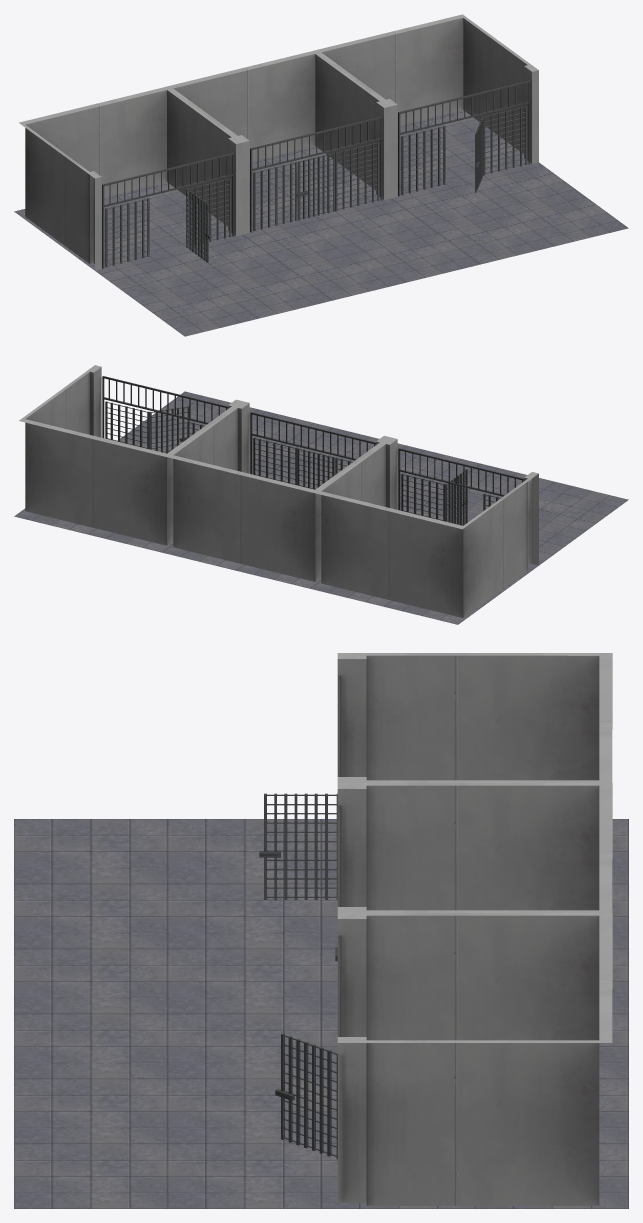
File: BLOCK1.obj
3 views of the same model, one above another, from view 1: azimuth 30°, elevation 25°; view 2: azimuth 150°, elevation 25°; view 3: azimuth 270°, elevation 25° (orthographic). The views are drawn at different scales.
Parts seen in each view (by area): view 1: Cube.058_Cube.061, Cube.056_Cube.059, Cube.203_Cube.211, Plane.007_Plane.008, Plane.008_Plane.010, Plane.012_Plane.013, Plane.011_Plane.012, Plane.010_Plane.011, Plane.009, Cube.011_Cube.013, Cube.059_Cube.062, Cube.057_Cube.063; view 2: Cube.058_Cube.061, Cube.056_Cube.059, Cube.203_Cube.211, Plane.012_Plane.013, Plane.007_Plane.008, Plane.008_Plane.010, Plane.011_Plane.012, Plane.010_Plane.011, Plane.009, Cube.059_Cube.062, Cube.057_Cube.063, Cube.011_Cube.013; view 3: Cube.056_Cube.059, Plane.007_Plane.008, Plane.012_Plane.013, Plane.008_Plane.010, Cube.058_Cube.061, Cube.203_Cube.211, Plane.010_Plane.011, Plane.009, Cube.057_Cube.063, Cube.059_Cube.062, Plane.011_Plane.012.
Boxes of the visible parts, bbox=[...] form: Cube.058_Cube.061: bbox=[19, 86, 242, 270]; Cube.056_Cube.059: bbox=[315, 14, 538, 198]; Cube.203_Cube.211: bbox=[167, 50, 390, 234]; Plane.007_Plane.008: bbox=[248, 202, 480, 300]; Plane.008_Plane.010: bbox=[396, 166, 628, 264]; Plane.012_Plane.013: bbox=[100, 238, 332, 336]; Plane.011_Plane.012: bbox=[14, 182, 246, 273]; Plane.010_Plane.011: bbox=[391, 110, 543, 201]; Plane.009: bbox=[243, 146, 394, 237]; Cube.011_Cube.013: bbox=[296, 152, 335, 220]; Cube.059_Cube.062: bbox=[186, 189, 211, 262]; Cube.057_Cube.063: bbox=[475, 116, 483, 192]; Cube.058_Cube.061: bbox=[315, 437, 538, 617]; Cube.056_Cube.059: bbox=[19, 365, 242, 545]; Cube.203_Cube.211: bbox=[167, 401, 390, 581]; Plane.012_Plane.013: bbox=[416, 463, 628, 562]; Plane.007_Plane.008: bbox=[268, 427, 480, 512]; Plane.008_Plane.010: bbox=[120, 391, 332, 476]; Plane.011_Plane.012: bbox=[310, 561, 542, 624]; Plane.010_Plane.011: bbox=[14, 508, 173, 552]; Plane.009: bbox=[162, 545, 321, 588]; Cube.059_Cube.062: bbox=[445, 469, 467, 525]; Cube.057_Cube.063: bbox=[149, 406, 190, 453]; Cube.011_Cube.013: bbox=[297, 448, 334, 489]; Cube.056_Cube.059: bbox=[337, 913, 612, 1205]; Plane.007_Plane.008: bbox=[14, 949, 321, 1078]; Plane.012_Plane.013: bbox=[14, 819, 321, 948]; Plane.008_Plane.010: bbox=[14, 1079, 321, 1208]; Cube.058_Cube.061: bbox=[337, 653, 612, 782]; Cube.203_Cube.211: bbox=[337, 783, 612, 912]; Plane.010_Plane.011: bbox=[321, 1079, 628, 1208]; Plane.009: bbox=[321, 949, 628, 1078]; Cube.057_Cube.063: bbox=[275, 1033, 337, 1159]; Cube.059_Cube.062: bbox=[259, 793, 337, 899]; Plane.011_Plane.012: bbox=[321, 819, 628, 948].
Size of the model in its own units: 18.01 by 3.57 by 12.
